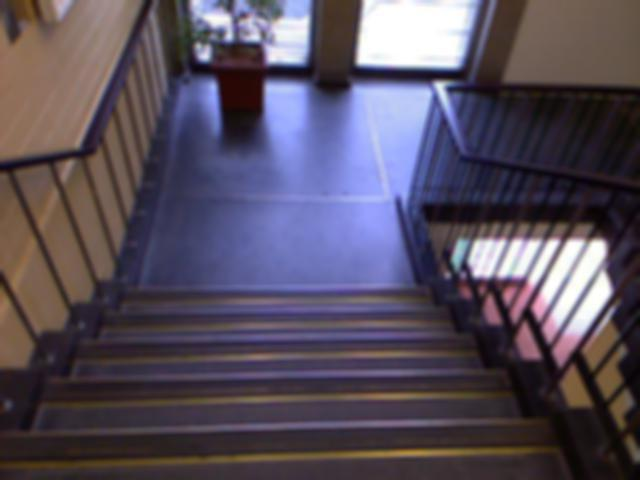Escaleras: (0, 274, 576, 479)
Matera: (195, 0, 285, 127)
